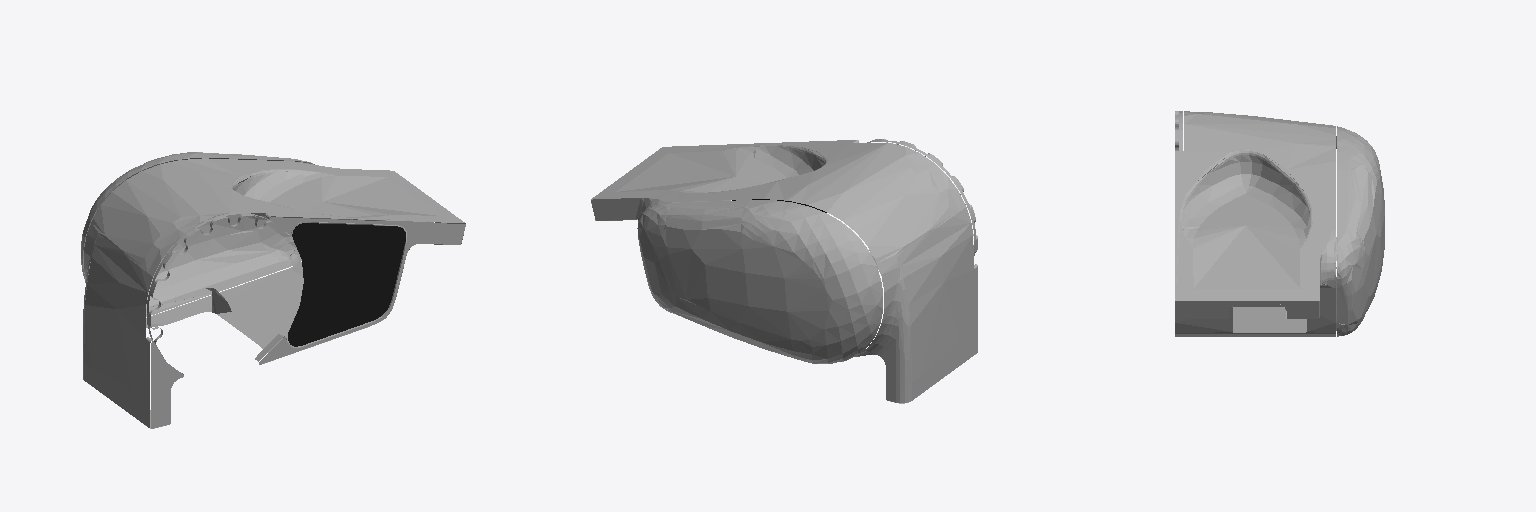
File: hip-roll-housing.obj
The picture shows the model from 3 angles: view 1: azimuth 30°, elevation 25°; view 2: azimuth 150°, elevation 25°; view 3: azimuth 270°, elevation 25°; orthographic projection.
Visible parts, largest first — view 1: __TMPOBJ_____TMPMESH__.053; view 2: __TMPOBJ_____TMPMESH__.053; view 3: __TMPOBJ_____TMPMESH__.053.
Boxes of the visible parts, x1=… form: __TMPOBJ_____TMPMESH__.053: x1=81, y1=152, x2=465, y2=428; __TMPOBJ_____TMPMESH__.053: x1=591, y1=139, x2=977, y2=403; __TMPOBJ_____TMPMESH__.053: x1=1175, y1=111, x2=1384, y2=336.
Bounding box in the file's own units: 0.1538 × 0.09 × 0.0887.